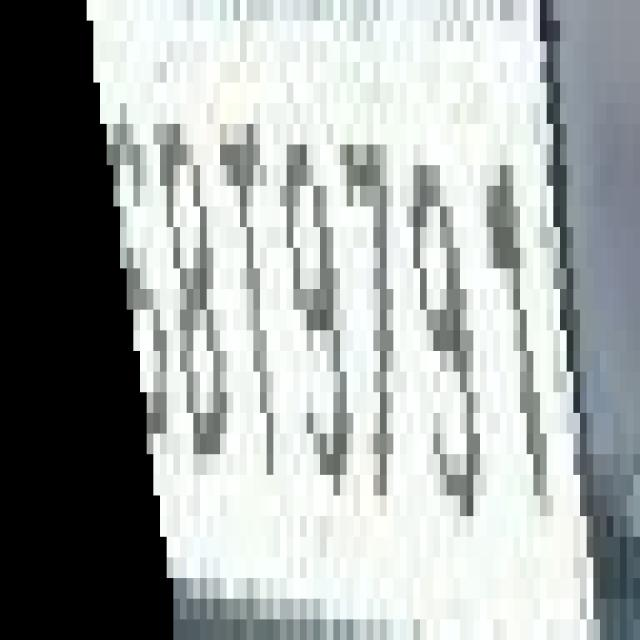license_plate: (20, 41, 640, 620)
